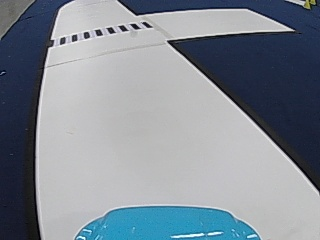CrossWalk: (52, 20, 149, 45)
